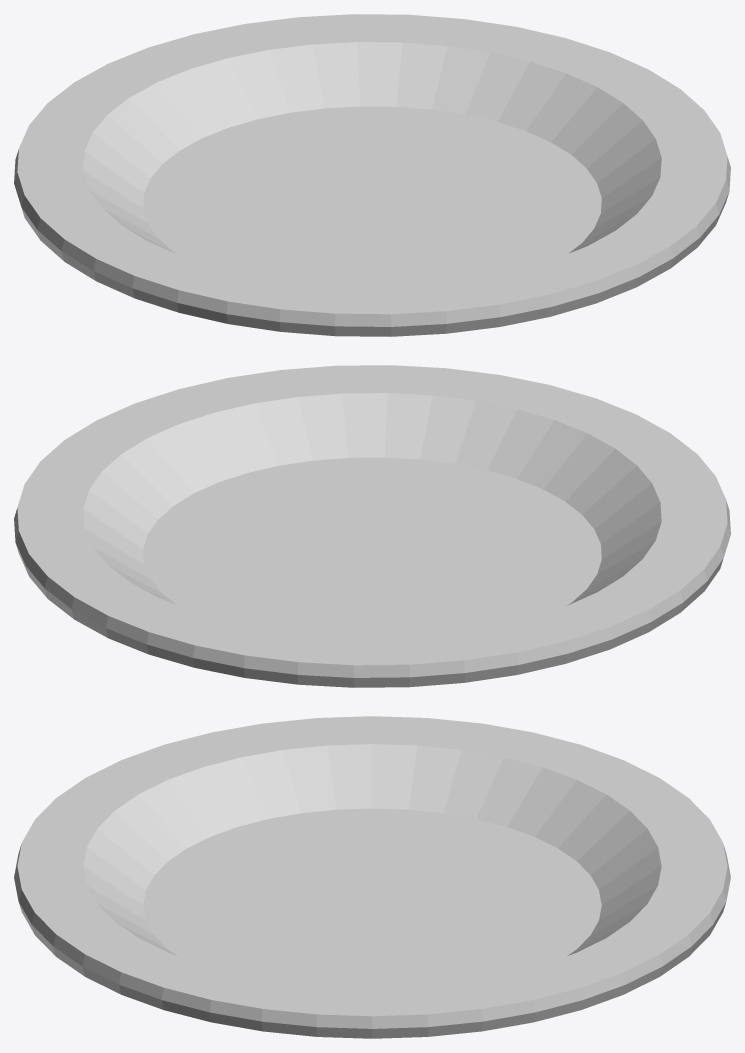
Rendered from disk.fbx.
The picture shows the model from 3 angles, top to bottom: view 1: azimuth 30°, elevation 25°; view 2: azimuth 150°, elevation 25°; view 3: azimuth 270°, elevation 25°; orthographic projection.
Visible parts, largest first — view 1: disk; view 2: disk; view 3: disk.
Part boxes in pixels (x1,y1,x2,y2): disk: (14, 14, 730, 336); disk: (14, 365, 730, 687); disk: (14, 716, 730, 1038).
Size of the model in its own units: 0.0211 by 0.00127 by 0.0211.
